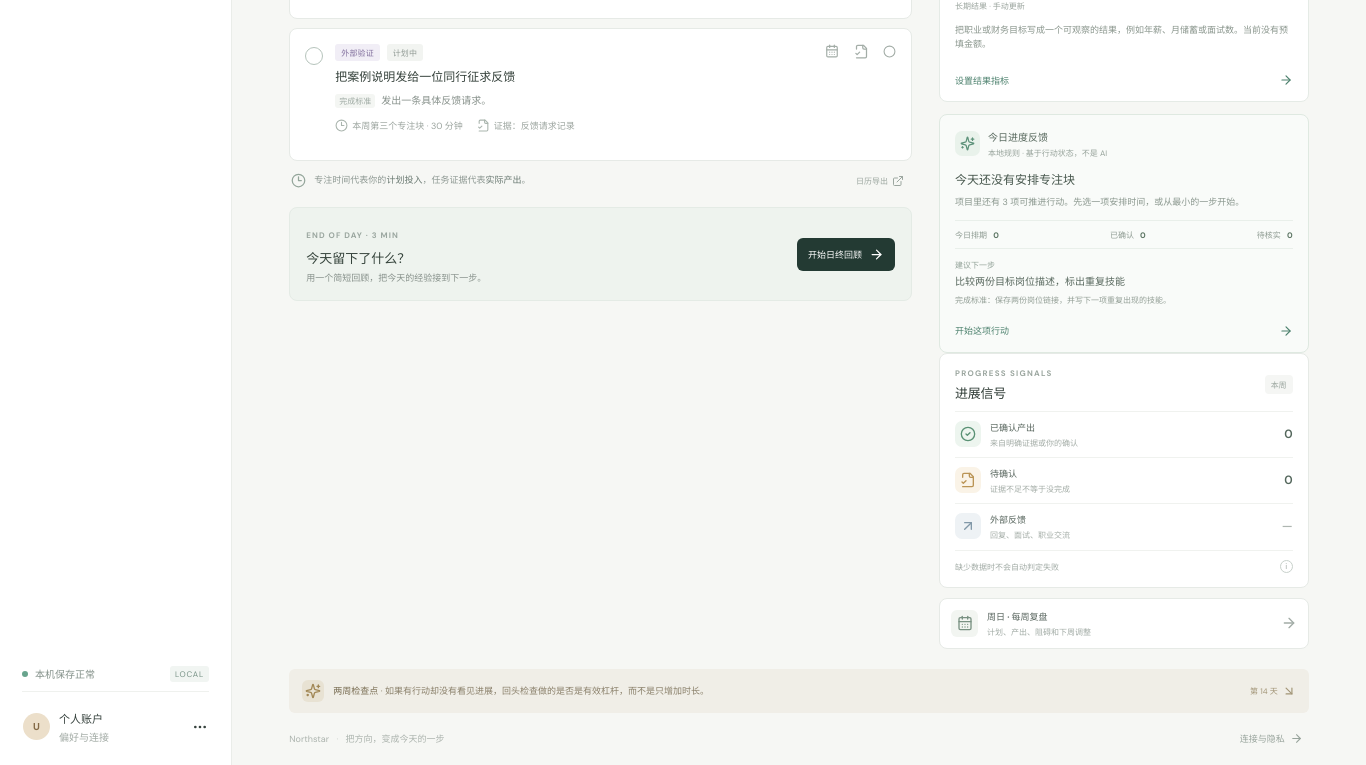
Goal Monitor first-run flows › labels calendar, evidence, and AI connections as unconnected in the local MVP
(page scrolled)
Click the button "连接与隐私" at coordinates (1271, 738), box [1234,731,1309,746]
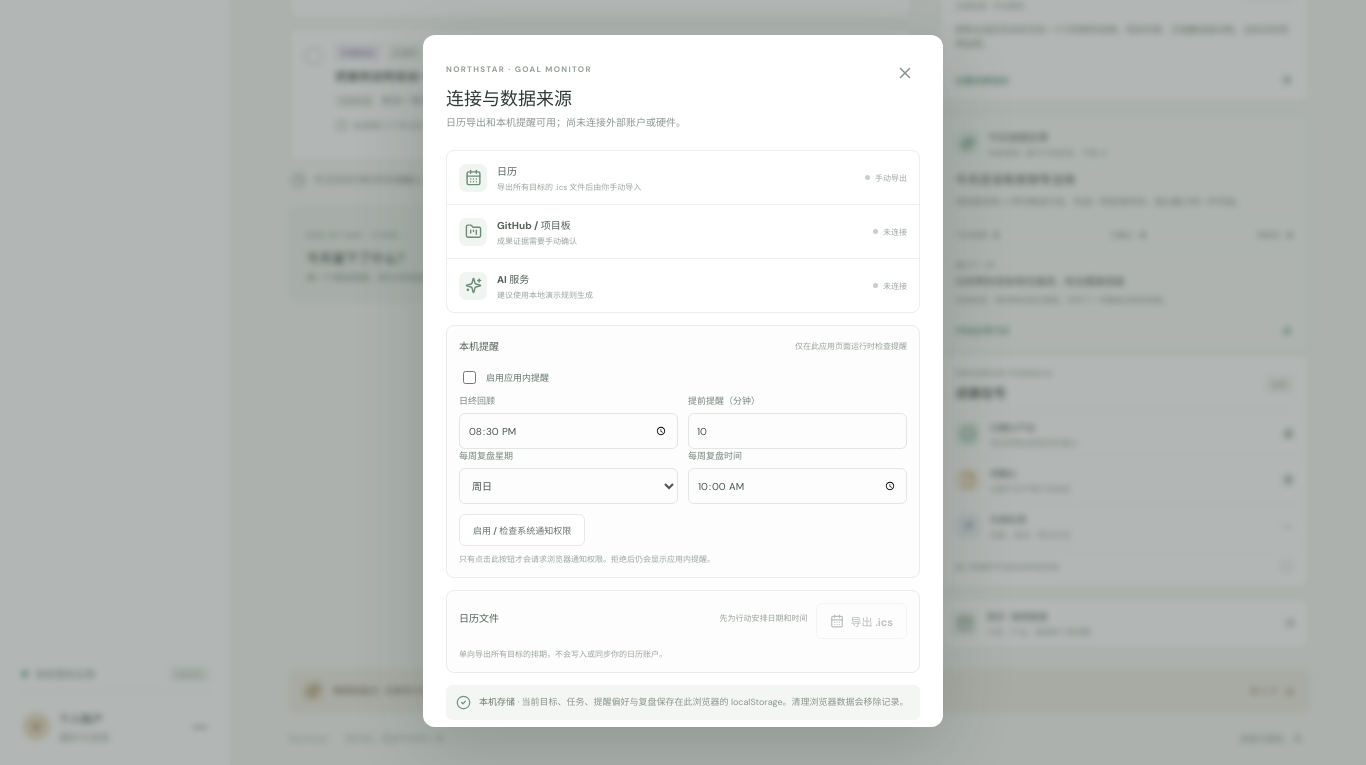
Now the text "日历" is shown, box [497,165,517,178]
Now the text "GitHub / 项目板" is shown, box [497,219,571,232]
Now the text "AI 服务" is shown, box [497,273,529,286]
